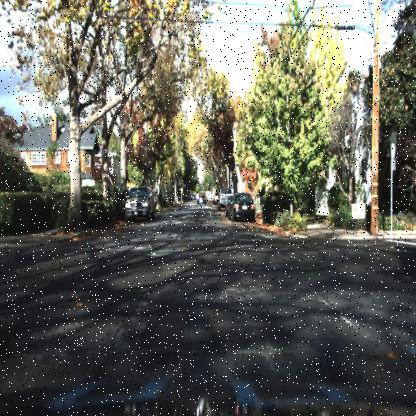car: (124, 187, 152, 218), (226, 192, 257, 220), (216, 189, 228, 212), (197, 190, 209, 206)
